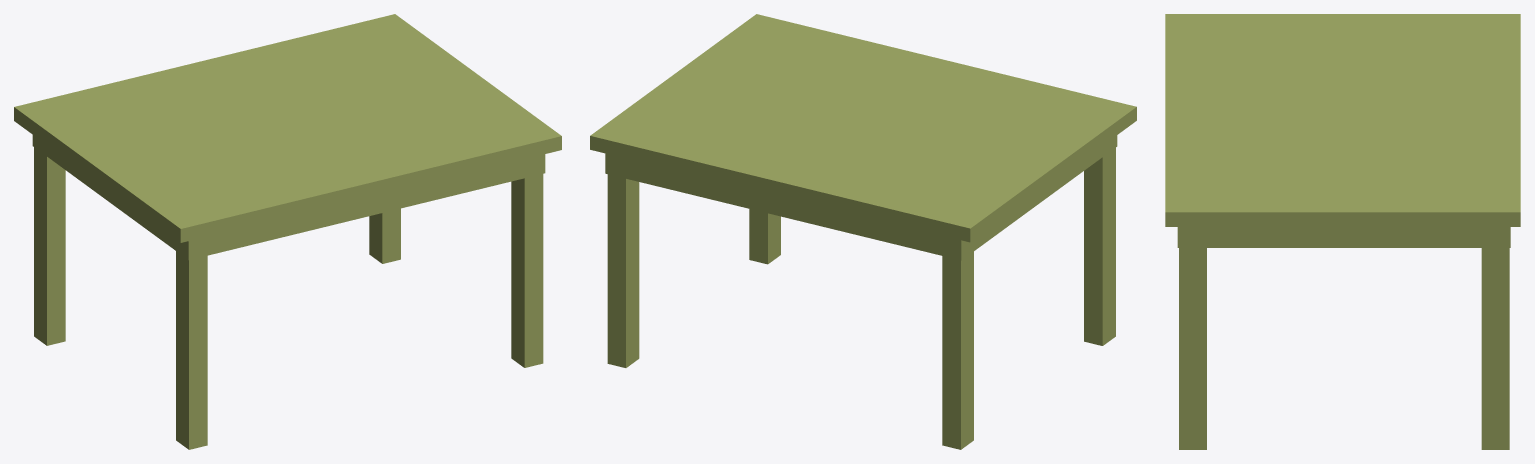
Rendered from mesaQueMasAplaude.fbx.
The picture shows the model from 3 angles, left to right: view 1: azimuth 30°, elevation 25°; view 2: azimuth 150°, elevation 25°; view 3: azimuth 270°, elevation 25°; orthographic projection. The views are drawn at different scales.
Visible parts, largest first — view 1: mesa; view 2: mesa; view 3: mesa.
Boxes of the visible parts, x1,y1,x2,y2 form: mesa: (14, 14, 561, 449); mesa: (590, 14, 1136, 449); mesa: (1165, 14, 1520, 449).
Size of the model in its own units: 288 by 166 by 219.
